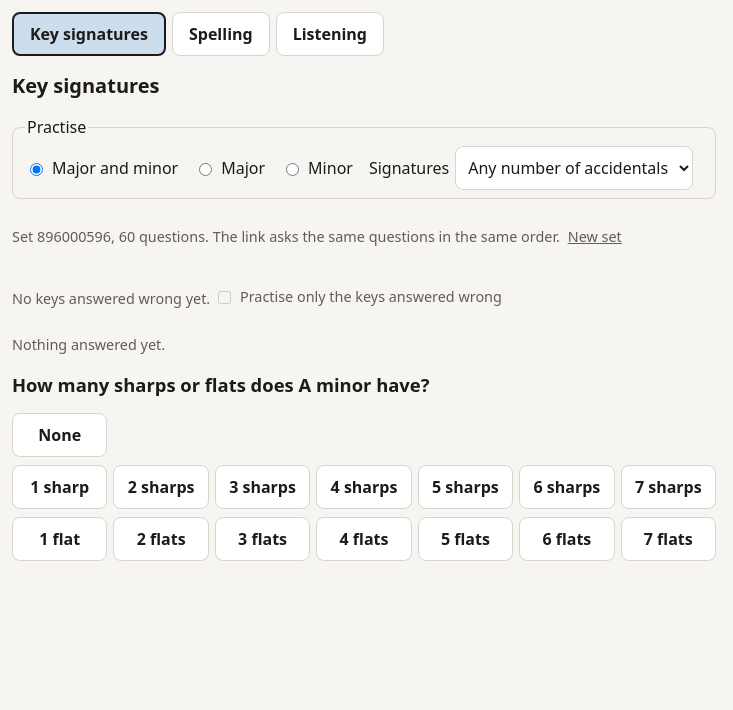
Test: Quiz: the listening drill › is a third mode of Practice
The width and height of the screenshot is (733, 710).
Click the button "Listening". click: (330, 34)
box: [276,12,384,56]
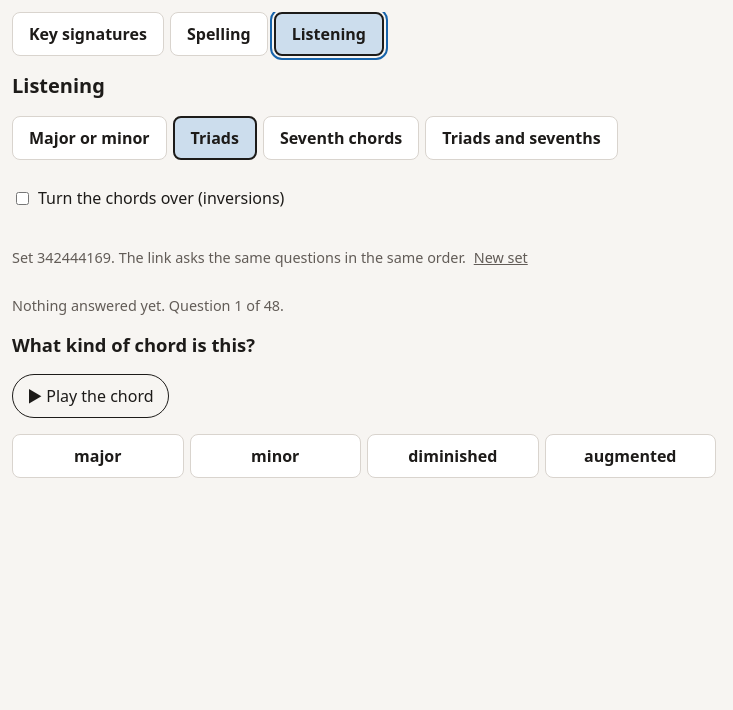
Expected: the heading "Listening" is shown, [12,72,105,99]
Click the button "Spelling". click: (219, 34)
box: [170,12,268,56]
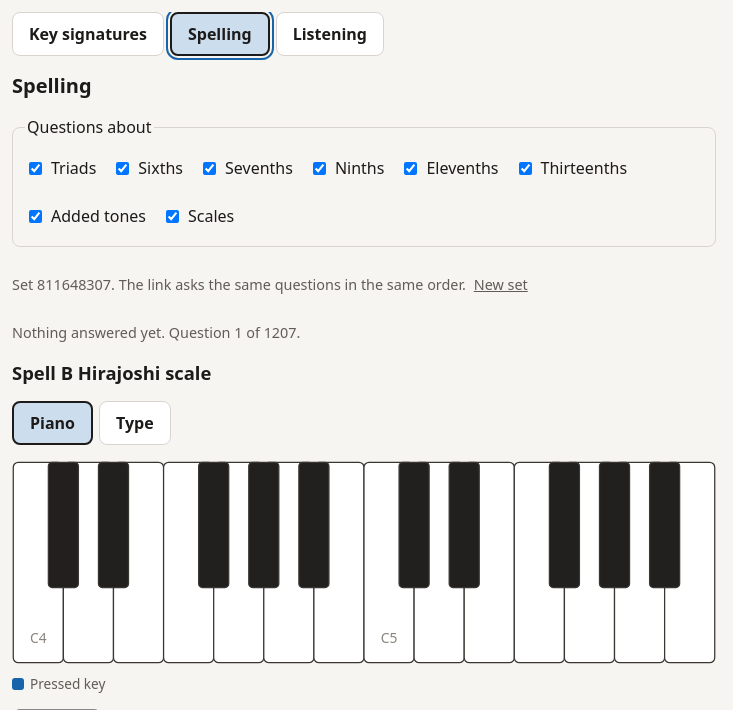
Expected: the heading "Spelling" is shown, [12,72,92,99]
